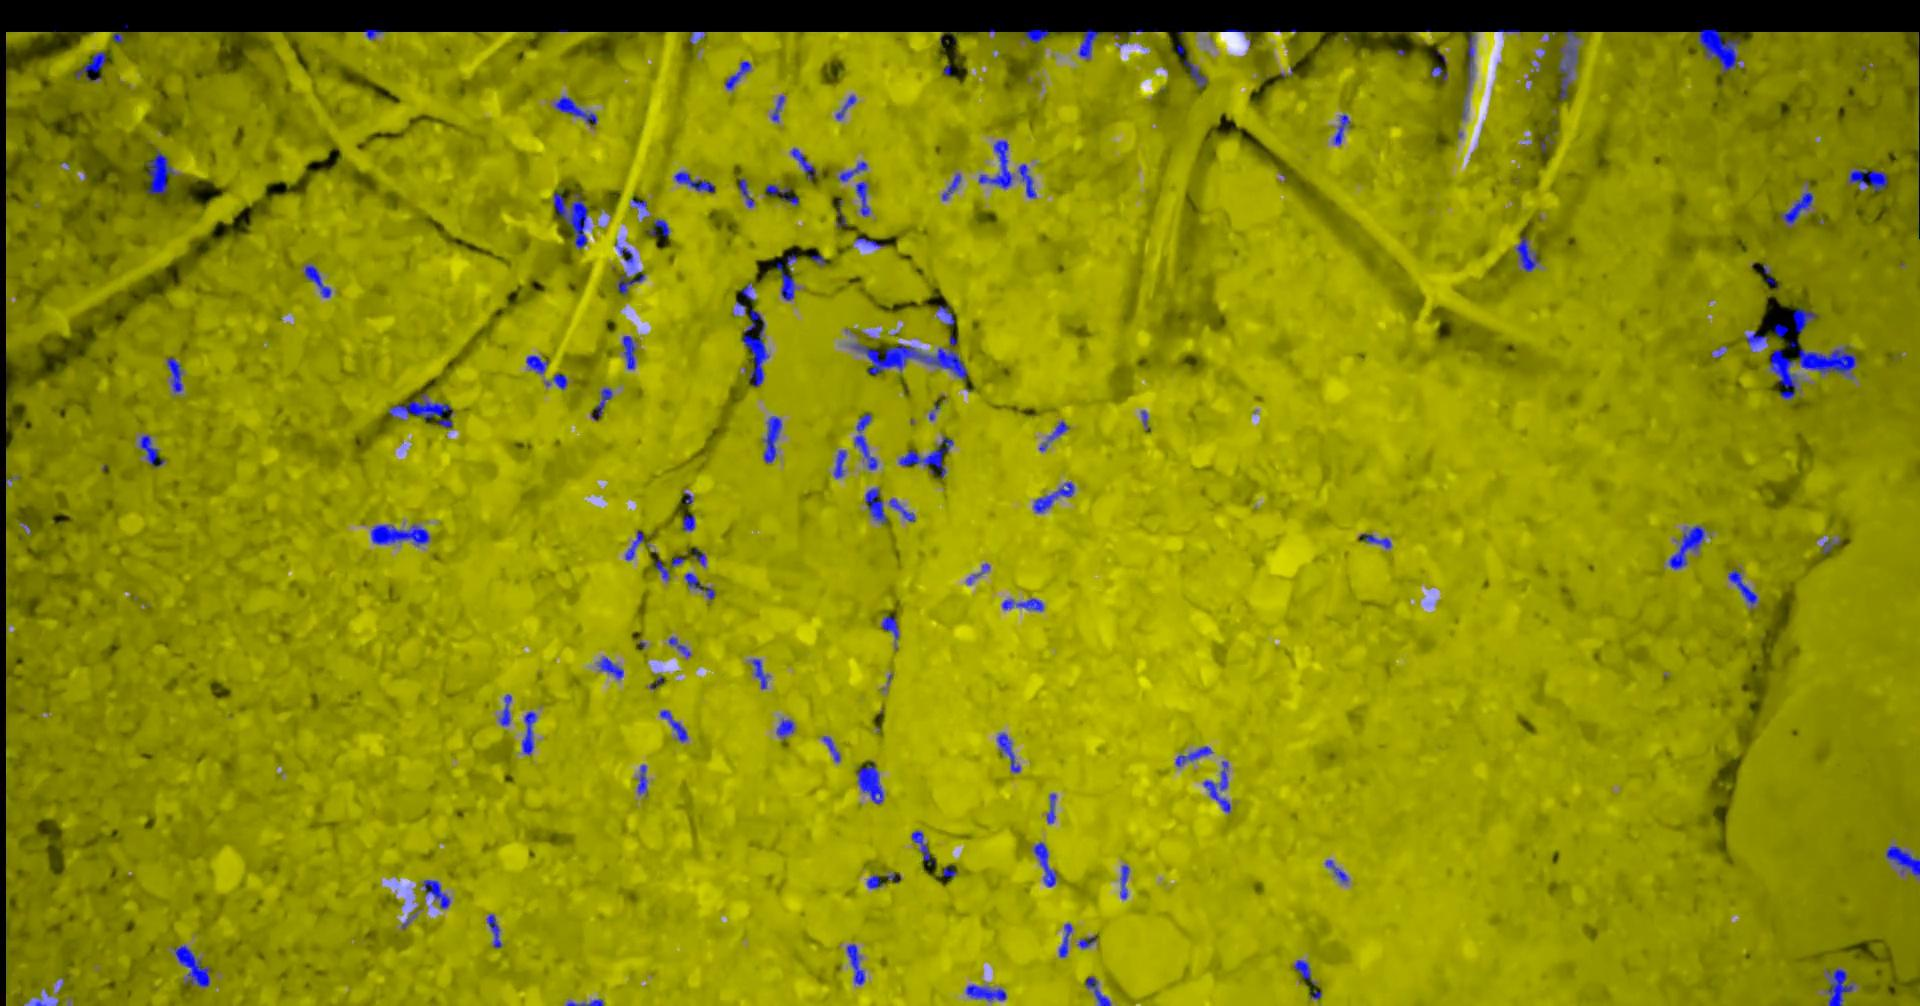ant: (737, 300, 770, 386), (900, 436, 954, 478), (390, 392, 455, 427), (555, 191, 589, 249), (1699, 28, 1741, 72), (980, 140, 1015, 188), (1670, 525, 1705, 569), (177, 945, 212, 986), (1559, 29, 1580, 99), (1205, 761, 1232, 812), (856, 413, 879, 469), (1035, 481, 1076, 512), (556, 97, 599, 124), (149, 150, 177, 193), (372, 525, 430, 545), (1780, 192, 1815, 224), (1730, 569, 1759, 606), (858, 763, 885, 803), (1887, 845, 1920, 876), (1829, 968, 1855, 1005), (1035, 842, 1057, 887), (1849, 168, 1890, 191), (998, 732, 1021, 772), (77, 51, 107, 81), (1040, 420, 1070, 450), (686, 572, 717, 600), (662, 709, 690, 741), (305, 264, 331, 297), (764, 417, 783, 462), (1517, 236, 1542, 271), (676, 171, 716, 192), (141, 434, 166, 466), (777, 260, 797, 300), (866, 486, 888, 523), (424, 879, 451, 908), (792, 147, 817, 179), (592, 387, 615, 420), (913, 829, 936, 862), (1177, 746, 1214, 766), (1087, 976, 1112, 1005), (848, 944, 866, 984), (726, 61, 752, 89), (1079, 28, 1102, 58), (1185, 58, 1209, 86), (618, 271, 646, 295), (767, 184, 800, 205), (968, 984, 1008, 1001), (523, 711, 538, 754), (1020, 164, 1037, 198), (168, 357, 184, 392), (1794, 307, 1818, 332), (891, 498, 916, 521), (599, 657, 625, 678), (841, 161, 869, 180), (1326, 859, 1349, 882), (627, 530, 645, 559), (943, 173, 963, 199), (753, 658, 770, 688), (488, 915, 503, 948), (857, 180, 871, 216), (837, 95, 857, 119), (1297, 959, 1316, 984), (1335, 114, 1351, 144), (1003, 598, 1045, 610), (968, 563, 990, 583), (623, 335, 637, 368), (740, 178, 756, 207), (1360, 533, 1392, 547), (527, 354, 550, 373), (883, 615, 900, 639), (824, 735, 841, 761), (1060, 923, 1073, 956), (670, 636, 692, 655), (1025, 28, 1051, 43), (649, 218, 670, 236), (938, 304, 956, 325), (502, 694, 513, 725), (836, 450, 848, 478), (1746, 330, 1769, 345), (1469, 29, 1476, 84), (778, 718, 795, 738), (657, 558, 670, 580), (773, 95, 785, 122), (838, 199, 850, 226), (618, 246, 635, 264), (1048, 793, 1057, 823), (364, 28, 387, 39), (639, 763, 648, 793), (1123, 865, 1130, 898), (857, 238, 885, 246), (695, 547, 707, 567), (568, 998, 604, 1005), (554, 373, 569, 389), (1432, 66, 1449, 80), (1079, 936, 1098, 948), (1542, 135, 1556, 150), (1775, 323, 1790, 337), (869, 874, 884, 888), (943, 864, 957, 876), (684, 514, 696, 530), (1919, 144, 1920, 225)
